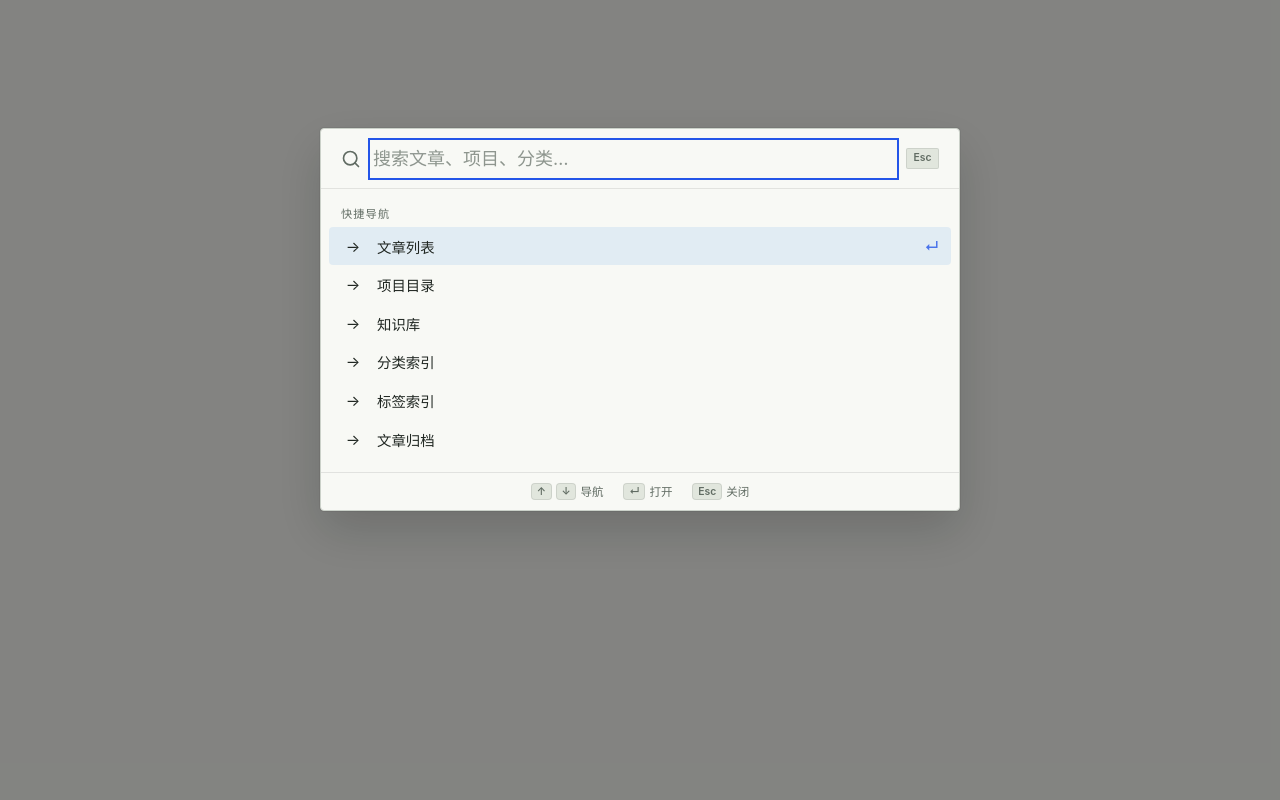
Scenario: SpotlightModal › filters results when typing a query
The width and height of the screenshot is (1280, 800).
Type "zzzzz_no_match" into the dropdown labelled "搜索".
click(634, 159); type("zzzzz_no_match")  # box [373,143,894,175]
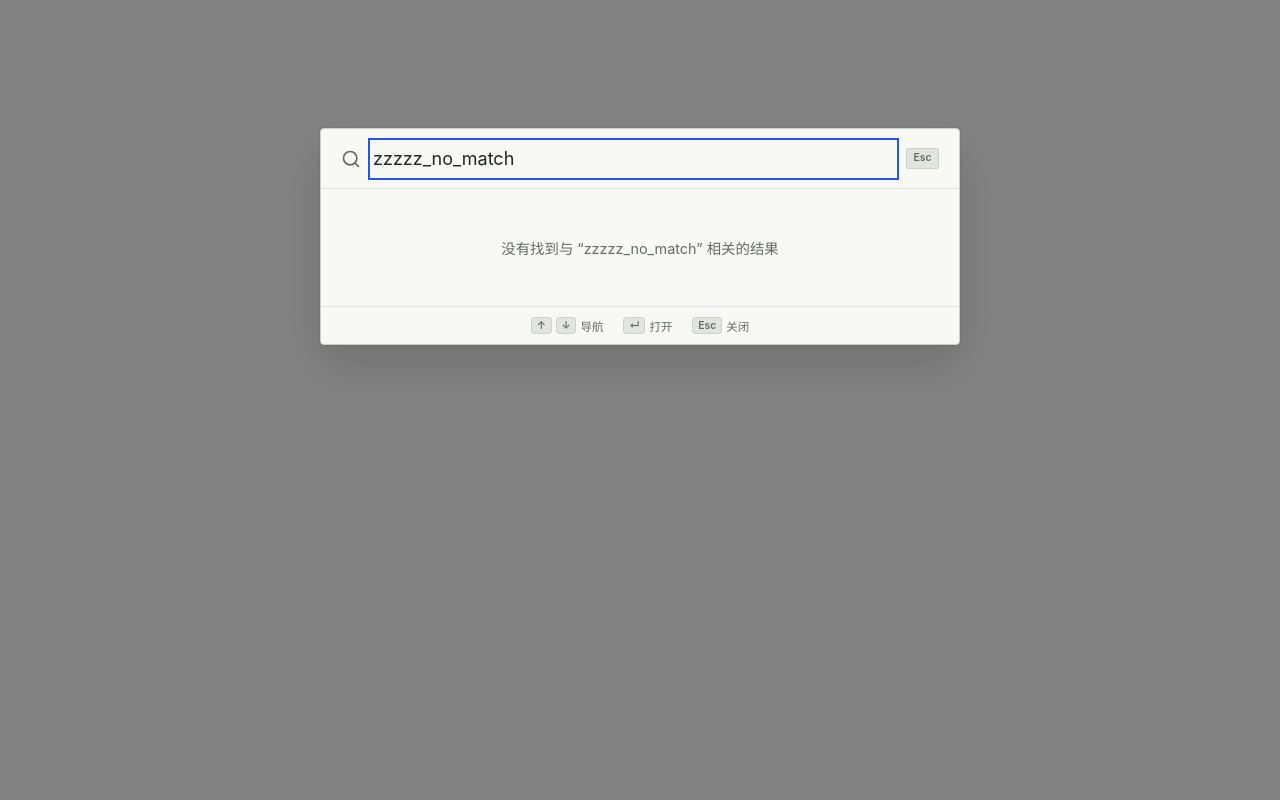
expect the text "没有找到与 “zzzzz_no_match” 相关的结果" is shown: met, box [501,240,779,257]
